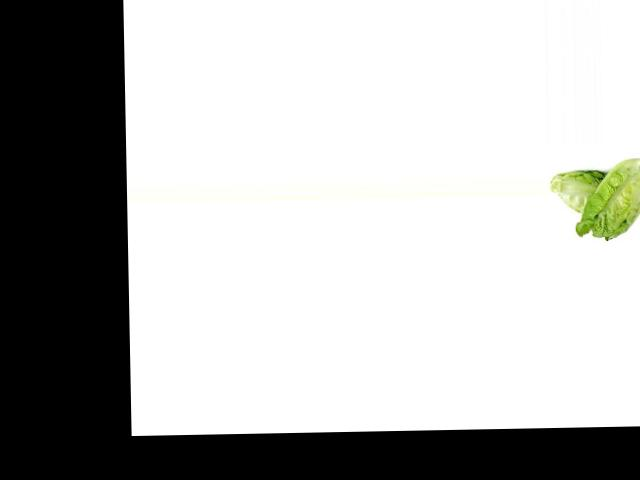lettuce: (547, 165, 607, 216)
